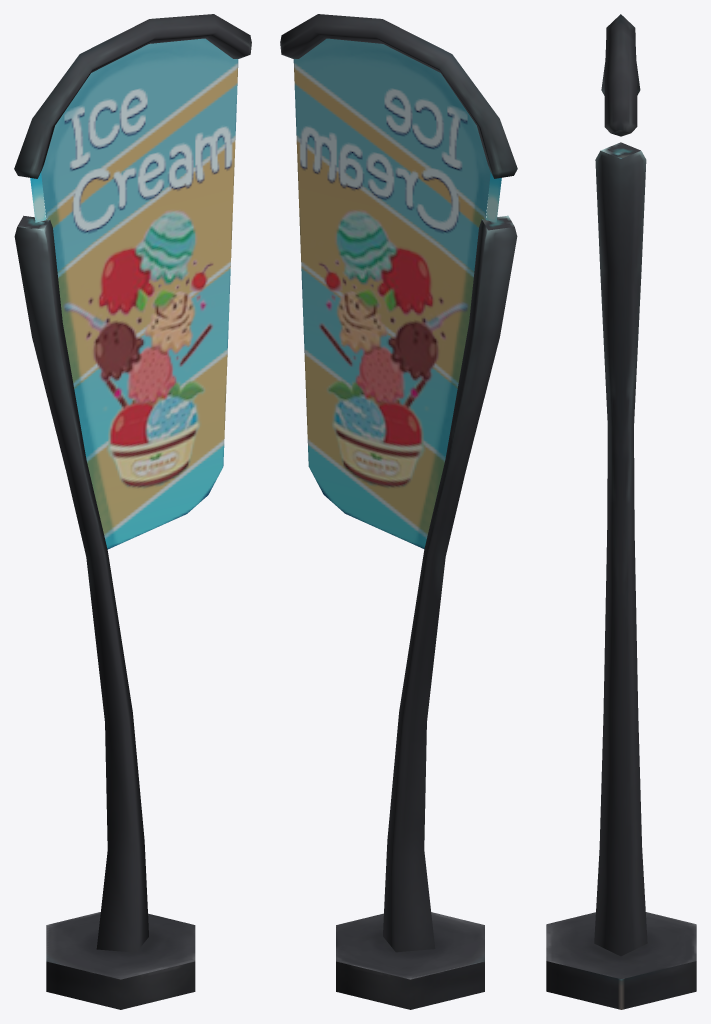
3 renders of one model, left to right at view 1: azimuth 30°, elevation 25°; view 2: azimuth 150°, elevation 25°; view 3: azimuth 270°, elevation 25°, orthographic.
Parts seen in each view (by area): view 1: wq_jz007_01; view 2: wq_jz007_01; view 3: wq_jz007_01.
Boxes of the visible parts, box(x1,y1,x2,y2) form: wq_jz007_01: box(14, 14, 251, 1009); wq_jz007_01: box(280, 14, 517, 1009); wq_jz007_01: box(546, 14, 696, 1009).
Bounding box in the file's own units: 79.35 × 302 × 43.06.
Materials: 1 (1 with a texture image).
